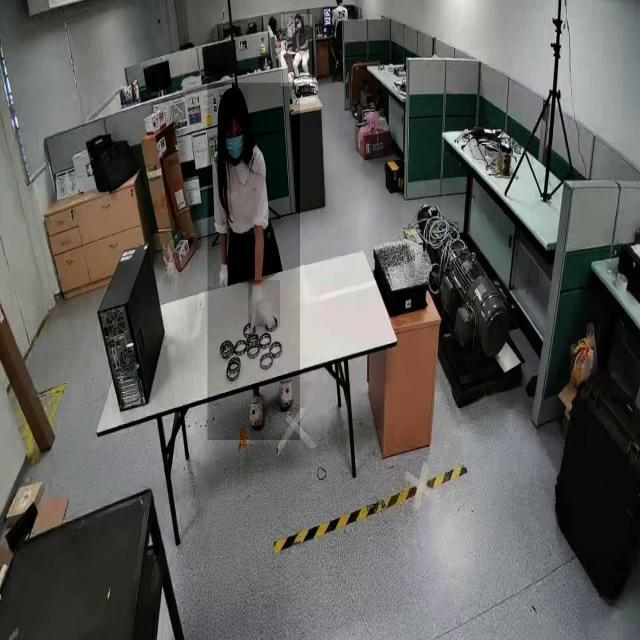gloves: (248, 280, 280, 328), (216, 258, 230, 284)
